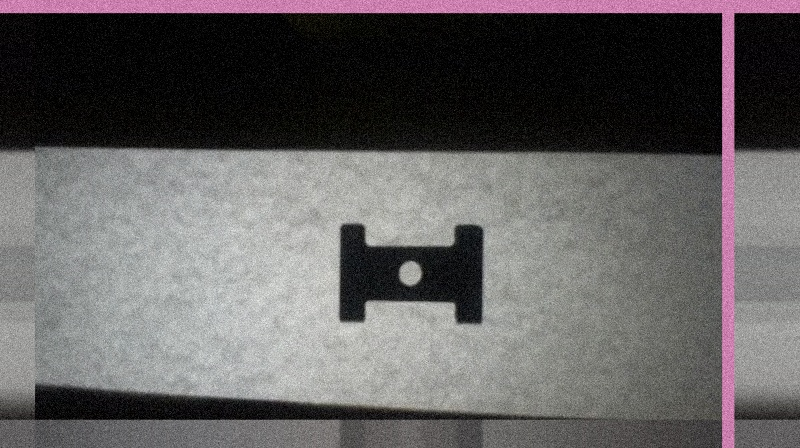O002: (335, 220, 486, 324)
